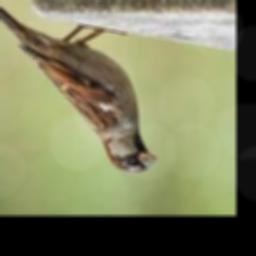Sparrow: (0, 0, 157, 172)
